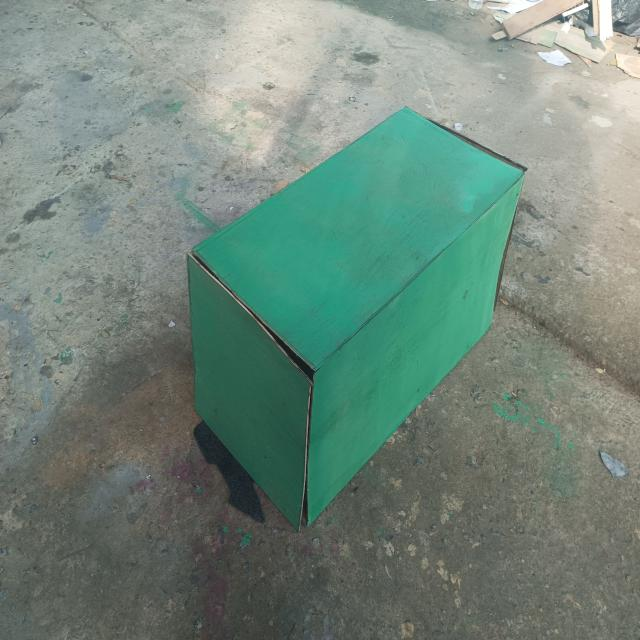green_box: (156, 83, 546, 575)
